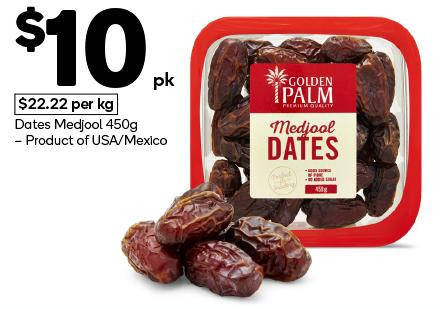description_block: (10, 117, 172, 152)
price_main: (5, 2, 177, 92)
product_image_block: (145, 12, 431, 292)
unit_price_block: (7, 89, 123, 116)
